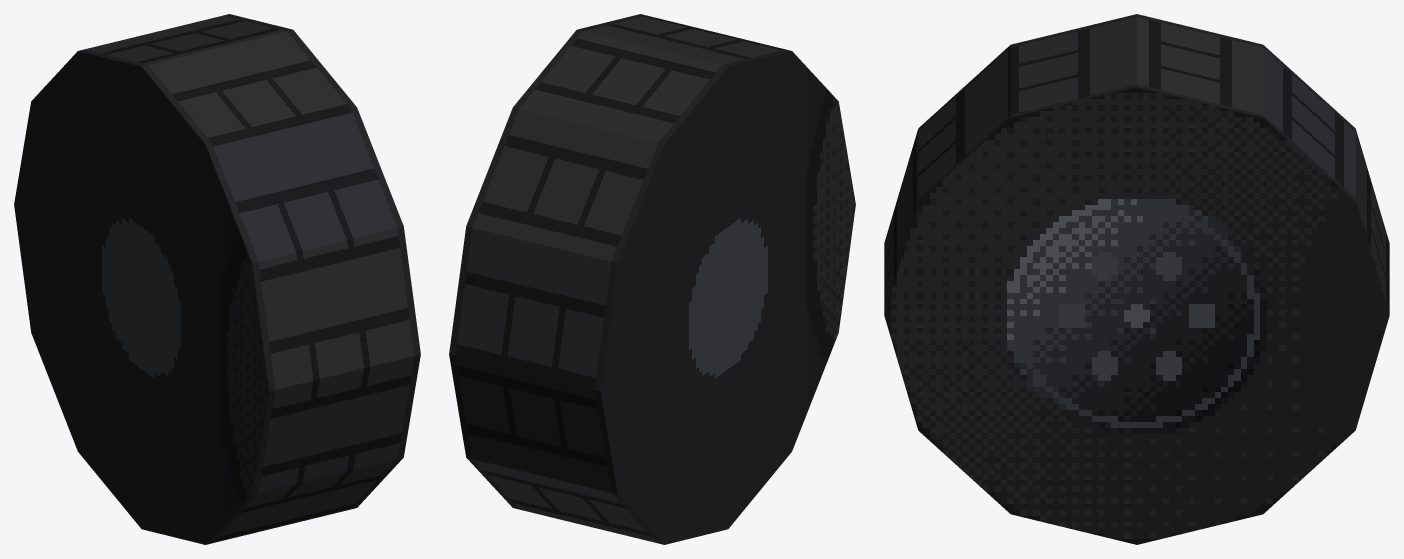
File: wheel_steel.glb
The picture shows the model from 3 angles, left to right: view 1: azimuth 30°, elevation 25°; view 2: azimuth 150°, elevation 25°; view 3: azimuth 270°, elevation 25°; orthographic projection.
Visible parts, largest first — view 1: wheel_steel; view 2: wheel_steel; view 3: wheel_steel.
Boxes of the visible parts, left/top/right/bottom form: wheel_steel: left=14, top=14, right=420, bottom=544; wheel_steel: left=449, top=14, right=855, bottom=544; wheel_steel: left=884, top=14, right=1389, bottom=544.
Size of the model in its own units: 0.285 by 0.8308 by 0.8308.
1 material, 1 textured.
